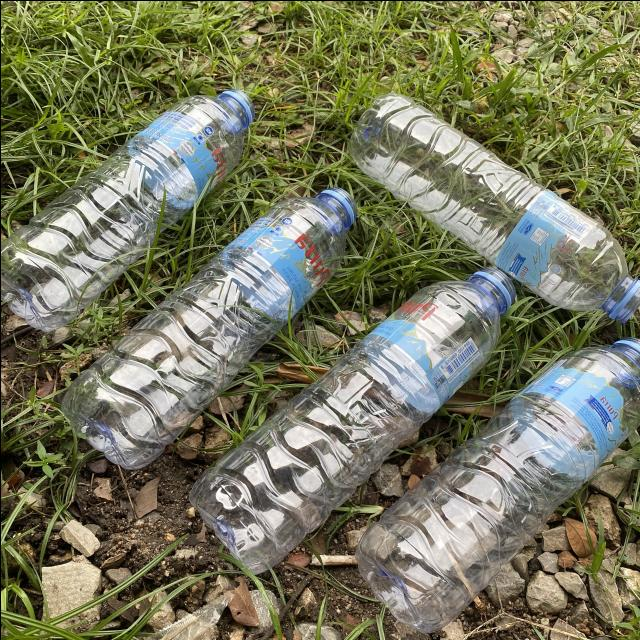plastik: (189, 266, 514, 572), (355, 338, 640, 631), (61, 187, 355, 468), (348, 93, 640, 322), (0, 89, 253, 330)
